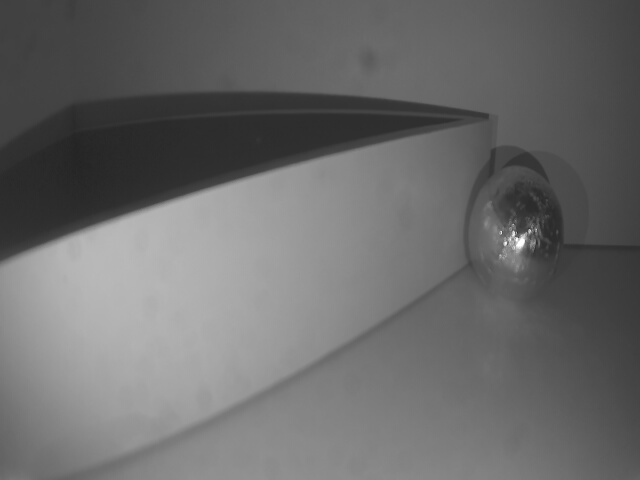Live: (474, 165, 563, 300)
Red: (0, 122, 493, 480)
